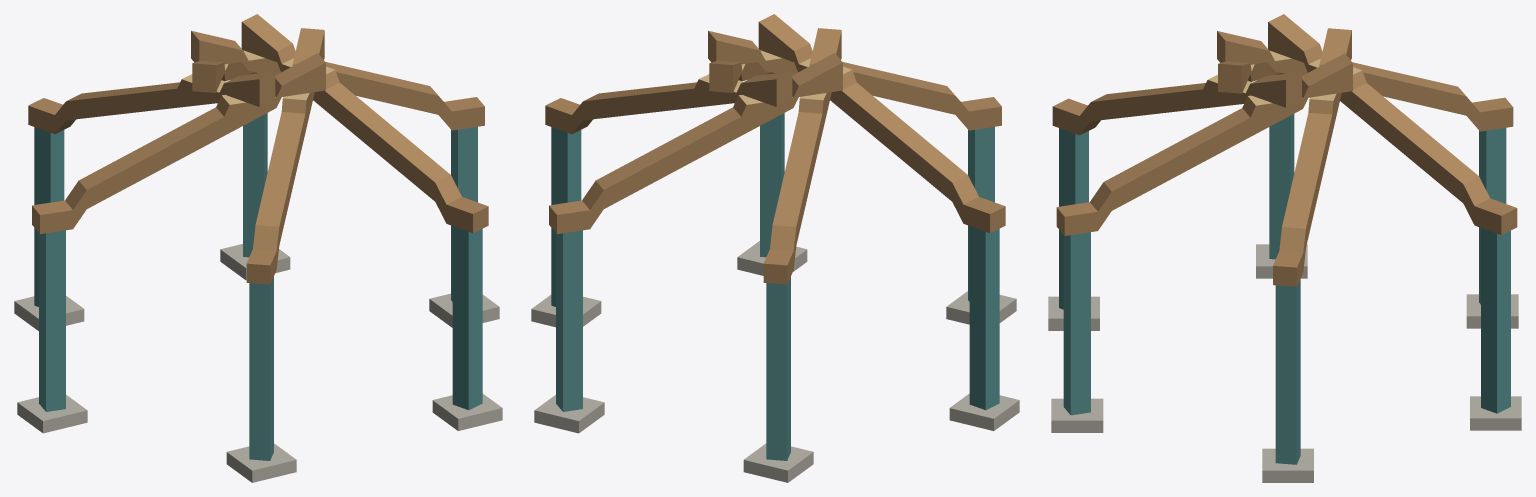
3 renders of one model, left to right at view 1: azimuth 30°, elevation 25°; view 2: azimuth 150°, elevation 25°; view 3: azimuth 270°, elevation 25°, orthographic.
Parts seen in each view (by area): view 1: WholeFlatSeatedRisingBeam3, WholeFlatSeatedRisingBeam5, WholeFlatSeatedRisingBeam4, WholeFlatSeatedRisingBeam2, WholeFlatSeatedRisingBeam0, WholePerimeterPier5, WholePerimeterPier3, WholePerimeterPier4, WholePerimeterPier1, WholePerimeterPier2, WholePerimeterPier0, WholeGroundPad4 (+6 smaller); view 2: WholeFlatSeatedRisingBeam1, WholeFlatSeatedRisingBeam3, WholeFlatSeatedRisingBeam2, WholeFlatSeatedRisingBeam0, WholeFlatSeatedRisingBeam4, WholePerimeterPier3, WholePerimeterPier1, WholePerimeterPier2, WholePerimeterPier5, WholePerimeterPier0, WholePerimeterPier4, WholeGroundPad2 (+6 smaller); view 3: WholeFlatSeatedRisingBeam5, WholeFlatSeatedRisingBeam1, WholeFlatSeatedRisingBeam0, WholeFlatSeatedRisingBeam4, WholeFlatSeatedRisingBeam2, WholePerimeterPier1, WholePerimeterPier5, WholePerimeterPier0, WholePerimeterPier3, WholePerimeterPier4, WholePerimeterPier2, WholeGroundPad0 (+6 smaller).
Part boxes in pixels (x1,y1,x2,y2): WholeFlatSeatedRisingBeam3: [32, 53, 325, 234]; WholeFlatSeatedRisingBeam5: [241, 14, 488, 232]; WholeFlatSeatedRisingBeam4: [246, 28, 324, 284]; WholeFlatSeatedRisingBeam2: [28, 71, 275, 134]; WholeFlatSeatedRisingBeam0: [191, 30, 484, 130]; WholePerimeterPier5: [452, 226, 482, 410]; WholePerimeterPier3: [39, 230, 65, 411]; WholePerimeterPier4: [249, 277, 273, 460]; WholePerimeterPier1: [243, 113, 267, 257]; WholePerimeterPier2: [34, 127, 64, 306]; WholePerimeterPier0: [451, 127, 477, 301]; WholeGroundPad4: [226, 443, 296, 482]; WholeFlatSeatedRisingBeam1: [549, 53, 842, 234]; WholeFlatSeatedRisingBeam3: [758, 14, 1005, 232]; WholeFlatSeatedRisingBeam2: [763, 28, 841, 284]; WholeFlatSeatedRisingBeam0: [545, 71, 792, 134]; WholeFlatSeatedRisingBeam4: [708, 30, 1001, 130]; WholePerimeterPier3: [969, 226, 999, 410]; WholePerimeterPier1: [556, 230, 582, 411]; WholePerimeterPier2: [766, 277, 790, 460]; WholePerimeterPier5: [760, 113, 784, 257]; WholePerimeterPier0: [551, 127, 581, 306]; WholePerimeterPier4: [968, 127, 994, 301]; WholeGroundPad2: [743, 443, 813, 482]; WholeFlatSeatedRisingBeam5: [1056, 53, 1352, 235]; WholeFlatSeatedRisingBeam1: [1268, 14, 1517, 234]; WholeFlatSeatedRisingBeam0: [1273, 28, 1351, 286]; WholeFlatSeatedRisingBeam4: [1052, 72, 1301, 135]; WholeFlatSeatedRisingBeam2: [1217, 31, 1513, 131]; WholePerimeterPier1: [1481, 228, 1510, 413]; WholePerimeterPier5: [1063, 232, 1090, 415]; WholePerimeterPier0: [1275, 279, 1300, 464]; WholePerimeterPier3: [1269, 114, 1294, 259]; WholePerimeterPier4: [1059, 128, 1088, 309]; WholePerimeterPier2: [1479, 128, 1506, 304]; WholeGroundPad0: [1262, 448, 1313, 482].
Bounding box in the file's own units: 7.02 × 4.68 × 6.22.
